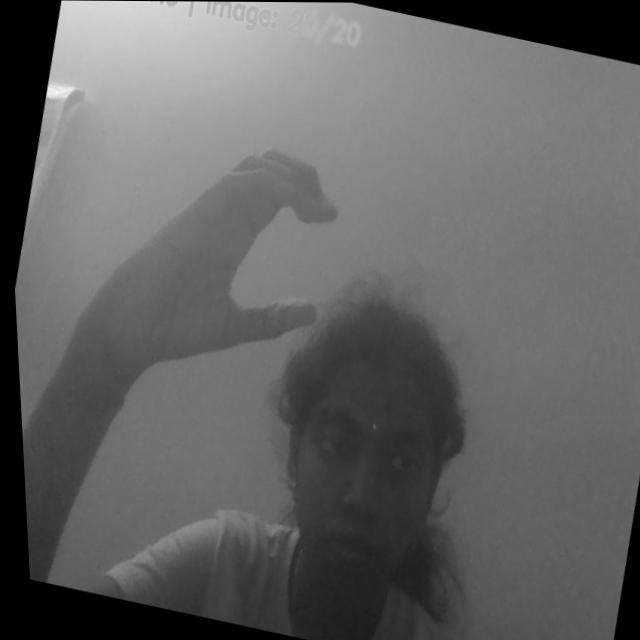No: (52, 82, 377, 410)
